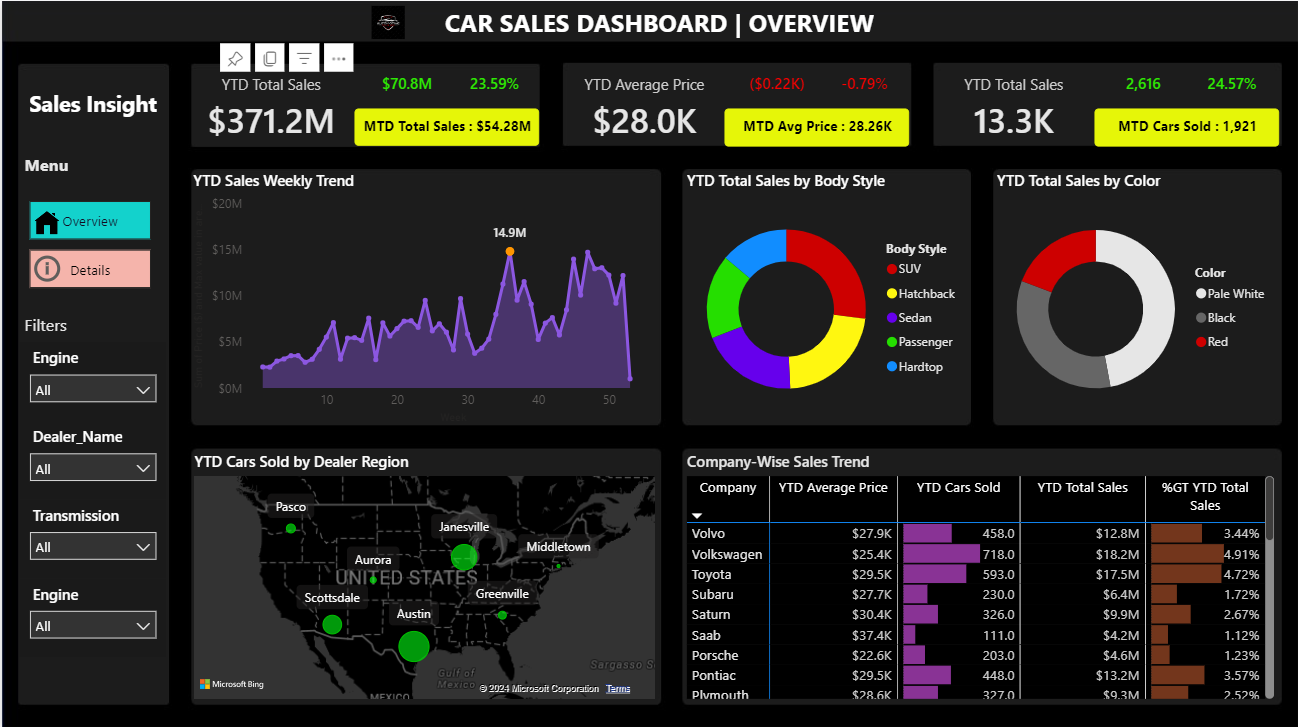

This screenshot's page, from the dashboard's own definition file:
{"tool":"powerbi","page":{"name":"Overview","canvas":[1280,720],"ordinal":0},"visuals":[{"type":"card","title":"YTD Total Sales","fields":{"Values":["car_data.YTD Total Sales"]},"box":[184.5,71.2,164,73.6],"z":0},{"type":"card","fields":{"Values":["car_data.Sales diff"]},"box":[357,61.5,86.8,44.6],"z":1000},{"type":"card","fields":{"Values":["car_data.YOY Sales Growth"]},"box":[443.8,61.5,86.8,44.6],"z":2000},{"type":"card","fields":{"Values":["car_data.MTD KPI"]},"box":[348.5,106.1,182.1,37],"z":3000},{"type":"card","title":"YTD Average Price","fields":{"Values":["car_data.YTD Average Price"]},"box":[556,71.2,158,72.4],"z":4000},{"type":"card","fields":{"Values":["car_data.Average YTD Difference"]},"box":[722.4,61.5,86.8,44.6],"z":5000},{"type":"card","fields":{"Values":["car_data.YOY Average Price"]},"box":[809.2,61.5,86.8,44.6],"z":6000},{"type":"card","fields":{"Values":["car_data.MTDA KPI"]},"box":[714,106.1,182.1,37.4],"z":7000},{"type":"card","title":"YTD Total Sales","fields":{"Values":["car_data.YTD Cars Sold"]},"box":[920.2,71.2,159.2,73.6],"z":8000},{"type":"card","fields":{"Values":["car_data.Cars sold diff"]},"box":[1084.2,61.5,86.8,44.6],"z":9000},{"type":"card","fields":{"Values":["car_data.YOY Growth in cars Sold"]},"box":[1171.1,61.5,86.8,44.6],"z":10000},{"type":"card","fields":{"Values":["car_data.MTDC KPI"]},"box":[1079.4,106.1,182.1,37.4],"z":11000},{"type":"areaChart","title":"YTD Sales Weekly Trend","fields":{"Category":["Calendar table.Week"],"Y":["Sum(car_data.Price ($))","car_data.Max value in area chart"]},"box":[184.5,166.4,465.5,255.7],"z":12000},{"type":"donutChart","fields":{"Category":["car_data.Body Style"],"Y":["car_data.YTD Total Sales"]},"box":[671.8,166.4,283.4,255.7],"z":13000},{"type":"donutChart","fields":{"Category":["car_data.Color"],"Y":["car_data.YTD Total Sales"]},"box":[978.1,166.4,283.4,255.7],"z":14000},{"type":"map","title":"YTD Cars Sold by Dealer Region","fields":{"Category":["car_data.Dealer_Region"],"Size":["car_data.YTD Cars Sold"]},"box":[185,445,465,250],"z":15000},{"type":"pivotTable","title":"Company-Wise Sales Trend ","fields":{"Rows":["car_data.Company"],"Values":["car_data.YTD Average Price","car_data.YTD Cars Sold","car_data.YTD Total Sales1","car_data.YTD Total Sales"]},"box":[671.2,445,590,250],"z":16000},{"type":"textbox","box":[398.8,0,501.2,51.2],"z":17000},{"type":"slicer","fields":{"Values":["car_data.Engine"]},"box":[17.5,570,145,77.5],"z":18000},{"type":"slicer","fields":{"Values":["car_data.Engine"]},"box":[17.5,337.5,145,77.5],"z":19000},{"type":"slicer","fields":{"Values":["car_data.Dealer_Name"]},"box":[17.5,415,145,77.5],"z":20000},{"type":"slicer","fields":{"Values":["car_data.Transmission"]},"box":[17.5,492.5,145,77.5],"z":21000},{"type":"textbox","box":[17.5,81.2,145,43.8],"z":22000},{"type":"textbox","box":[17.5,146.2,115,40],"z":23000},{"type":"pageNavigator","box":[27.7,197.8,120.6,86.8],"z":24000},{"type":"textbox","box":[17.5,303.8,72.5,33.8],"z":25000},{"type":"image","box":[307.5,0,148.3,42.2],"z":26000},{"type":"actionButton","box":[27.7,244.8,35,39.8],"z":27000},{"type":"image","box":[27.7,197.8,35,43.4],"z":28000}]}

Visuals, with their boxes in screenshot pixels (x1, y1, x2, y2), scaled from the page's 1280x720 canvas onto the 1298x727 screenshot:
"YTD Total Sales" card: {"left": 187, "top": 72, "right": 353, "bottom": 146}
card - car_data.Sales diff: {"left": 362, "top": 62, "right": 450, "bottom": 107}
card - car_data.YOY Sales Growth: {"left": 450, "top": 62, "right": 538, "bottom": 107}
card - car_data.MTD KPI: {"left": 353, "top": 107, "right": 538, "bottom": 144}
"YTD Average Price" card: {"left": 564, "top": 72, "right": 724, "bottom": 145}
card - car_data.Average YTD Difference: {"left": 733, "top": 62, "right": 821, "bottom": 107}
card - car_data.YOY Average Price: {"left": 821, "top": 62, "right": 909, "bottom": 107}
card - car_data.MTDA KPI: {"left": 724, "top": 107, "right": 909, "bottom": 145}
"YTD Total Sales" card: {"left": 933, "top": 72, "right": 1095, "bottom": 146}
card - car_data.Cars sold diff: {"left": 1099, "top": 62, "right": 1187, "bottom": 107}
card - car_data.YOY Growth in cars Sold: {"left": 1188, "top": 62, "right": 1276, "bottom": 107}
card - car_data.MTDC KPI: {"left": 1095, "top": 107, "right": 1279, "bottom": 145}
"YTD Sales Weekly Trend" areaChart: {"left": 187, "top": 168, "right": 659, "bottom": 426}
donutChart - car_data.Body Style x car_data.YTD Total Sales: {"left": 681, "top": 168, "right": 969, "bottom": 426}
donutChart - car_data.Color x car_data.YTD Total Sales: {"left": 992, "top": 168, "right": 1279, "bottom": 426}
"YTD Cars Sold by Dealer Region" map: {"left": 188, "top": 449, "right": 659, "bottom": 702}
"Company-Wise Sales Trend " pivotTable: {"left": 681, "top": 449, "right": 1279, "bottom": 702}
textbox: {"left": 404, "top": 0, "right": 913, "bottom": 52}
slicer - car_data.Engine: {"left": 18, "top": 576, "right": 165, "bottom": 654}
slicer - car_data.Engine: {"left": 18, "top": 341, "right": 165, "bottom": 419}
slicer - car_data.Dealer_Name: {"left": 18, "top": 419, "right": 165, "bottom": 497}
slicer - car_data.Transmission: {"left": 18, "top": 497, "right": 165, "bottom": 576}
textbox: {"left": 18, "top": 82, "right": 165, "bottom": 126}
textbox: {"left": 18, "top": 148, "right": 134, "bottom": 188}
pageNavigator: {"left": 28, "top": 200, "right": 150, "bottom": 287}
textbox: {"left": 18, "top": 307, "right": 91, "bottom": 341}
image: {"left": 312, "top": 0, "right": 462, "bottom": 43}
actionButton: {"left": 28, "top": 247, "right": 64, "bottom": 287}
image: {"left": 28, "top": 200, "right": 64, "bottom": 244}
